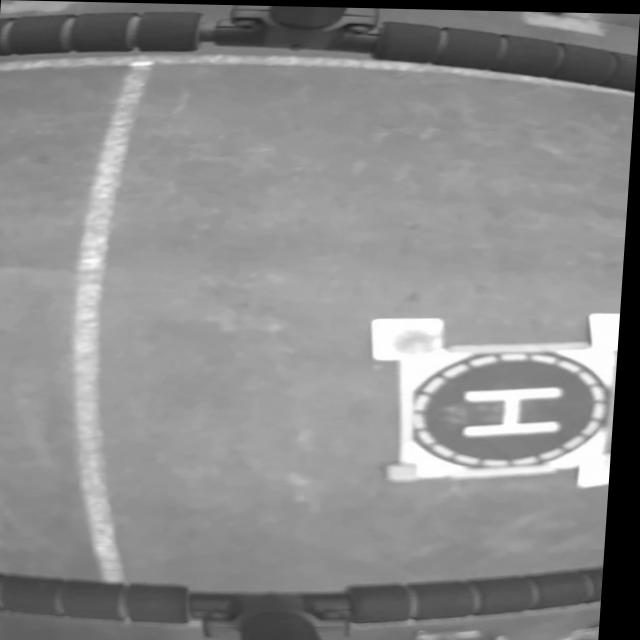Helipad: (466, 385, 565, 435)
